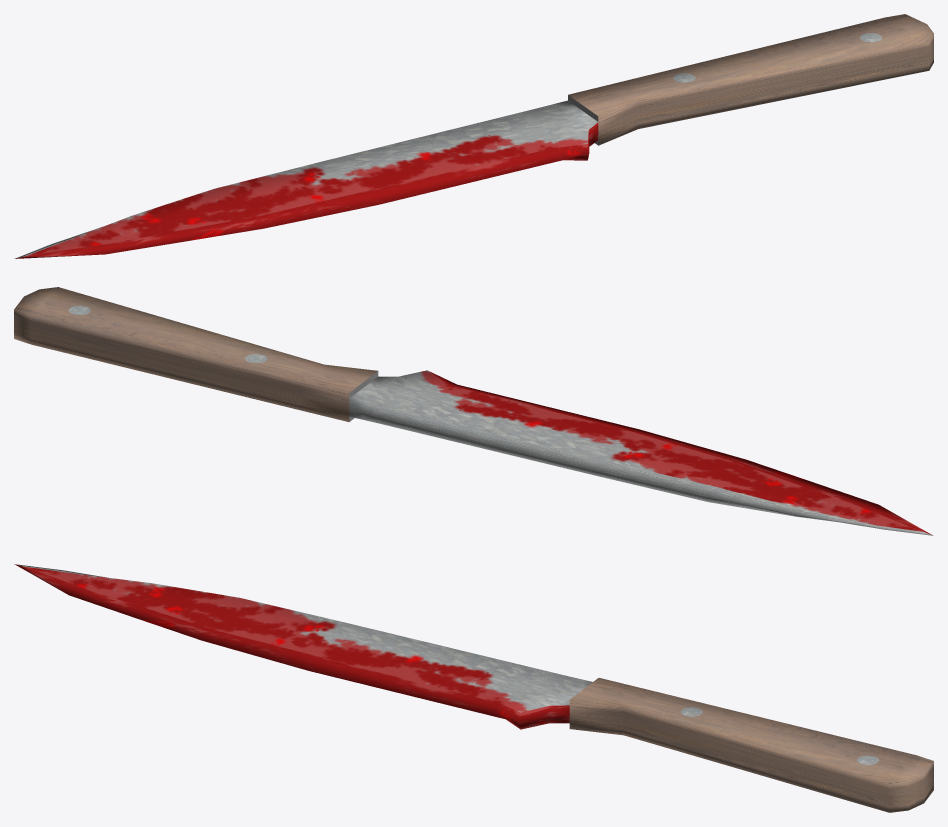
File: Knife.FBX
3 views of the same model, one above another, from view 1: azimuth 30°, elevation 25°; view 2: azimuth 150°, elevation 25°; view 3: azimuth 330°, elevation 25° (orthographic).
Parts seen in each view (by area): view 1: Knife01; view 2: Knife01; view 3: Knife01.
Boxes of the visible parts, bbox=[...] form: Knife01: bbox=[14, 14, 933, 258]; Knife01: bbox=[14, 287, 933, 535]; Knife01: bbox=[14, 564, 933, 812].
Size of the model in its own units: 13.26 by 0.4075 by 1.36.
2 materials, 1 textured.
